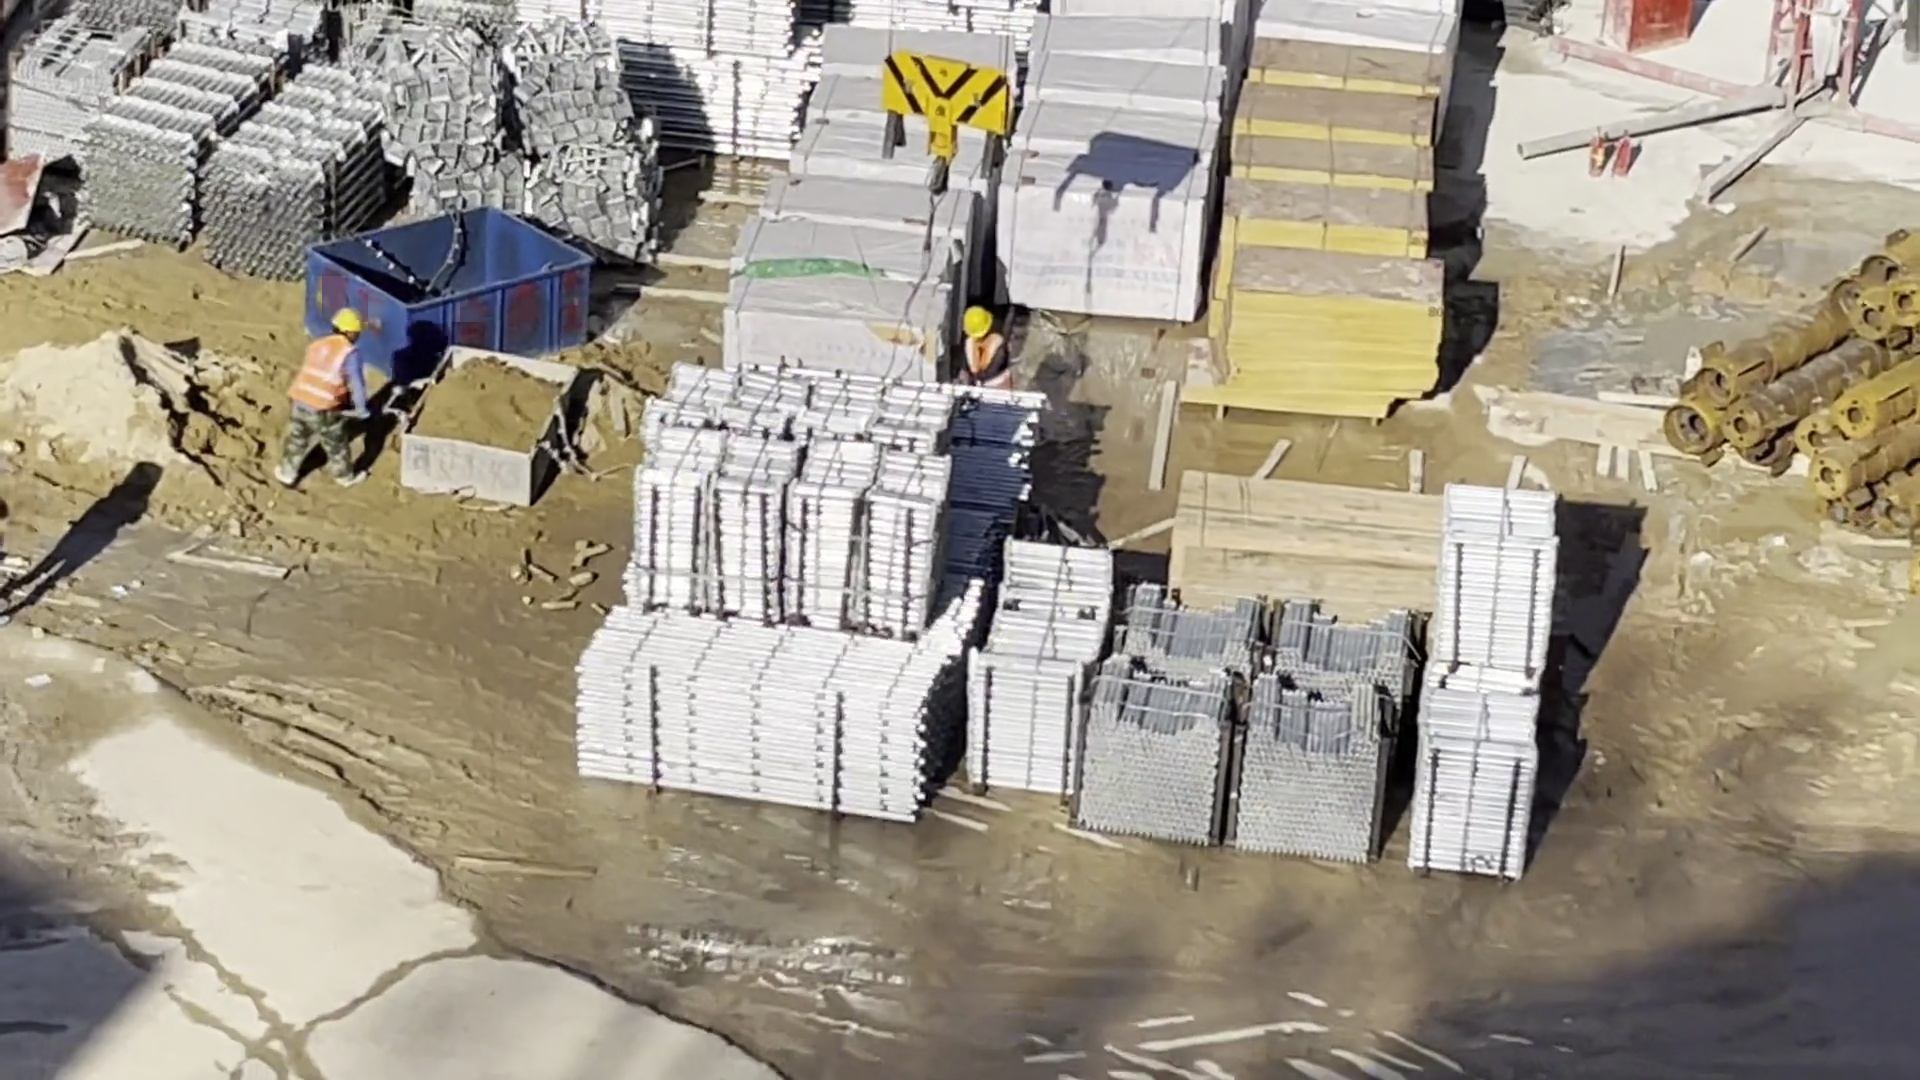helmet: (325, 296, 370, 352), (958, 298, 1001, 341)
hook: (862, 28, 1019, 169)
hopper: (303, 197, 599, 369), (388, 349, 559, 474)
person: (292, 303, 367, 492), (951, 309, 1024, 397)
scaffold: (656, 351, 1093, 843), (50, 1, 359, 212), (1426, 458, 1565, 904), (1135, 590, 1385, 802), (587, 1, 787, 148)
vest: (299, 338, 361, 416), (954, 331, 1015, 380)
